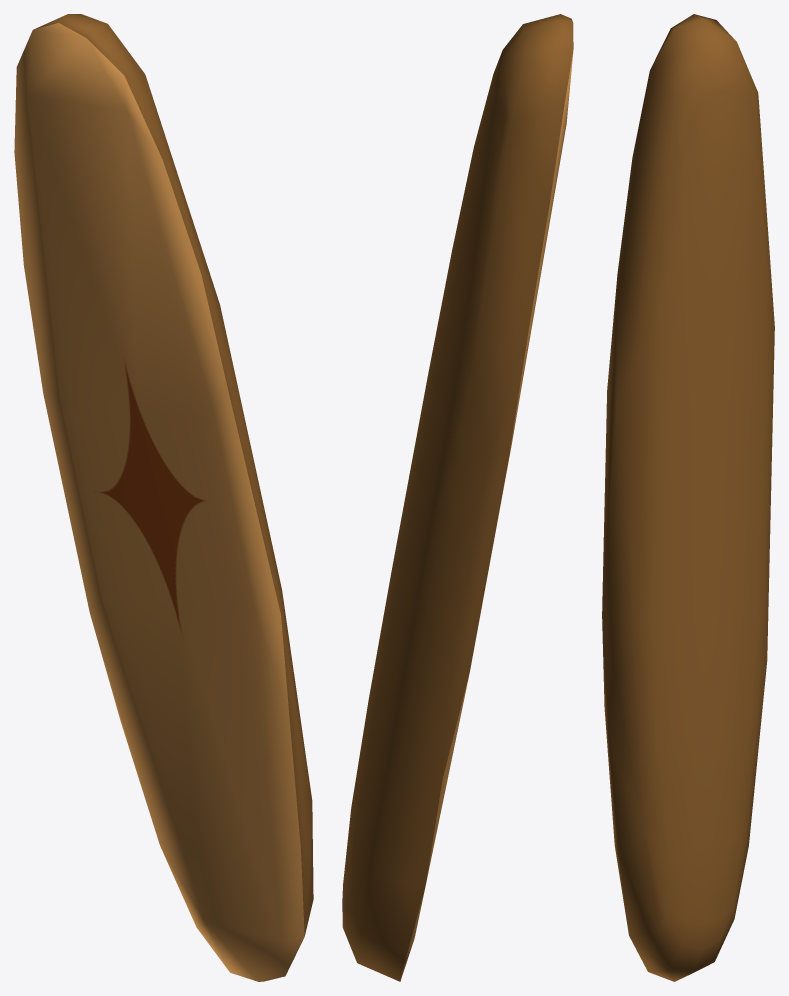
The model's file is yut-v3-backdo-darker-more.glb.
3 renders of one model, left to right at view 1: azimuth 30°, elevation 25°; view 2: azimuth 150°, elevation 25°; view 3: azimuth 270°, elevation 25°, orthographic. The views are drawn at different scales.
Parts seen in each view (by area): view 1: yoot0; view 2: yoot0; view 3: yoot0.
Boxes of the visible parts, x1,y1,x2,y2 form: yoot0: (14,14,313,981); yoot0: (342,14,573,981); yoot0: (602,14,774,981).
Bounding box in the file's own units: 3.25 × 12.32 × 2.18.
Materials: 1 (1 with a texture image).
